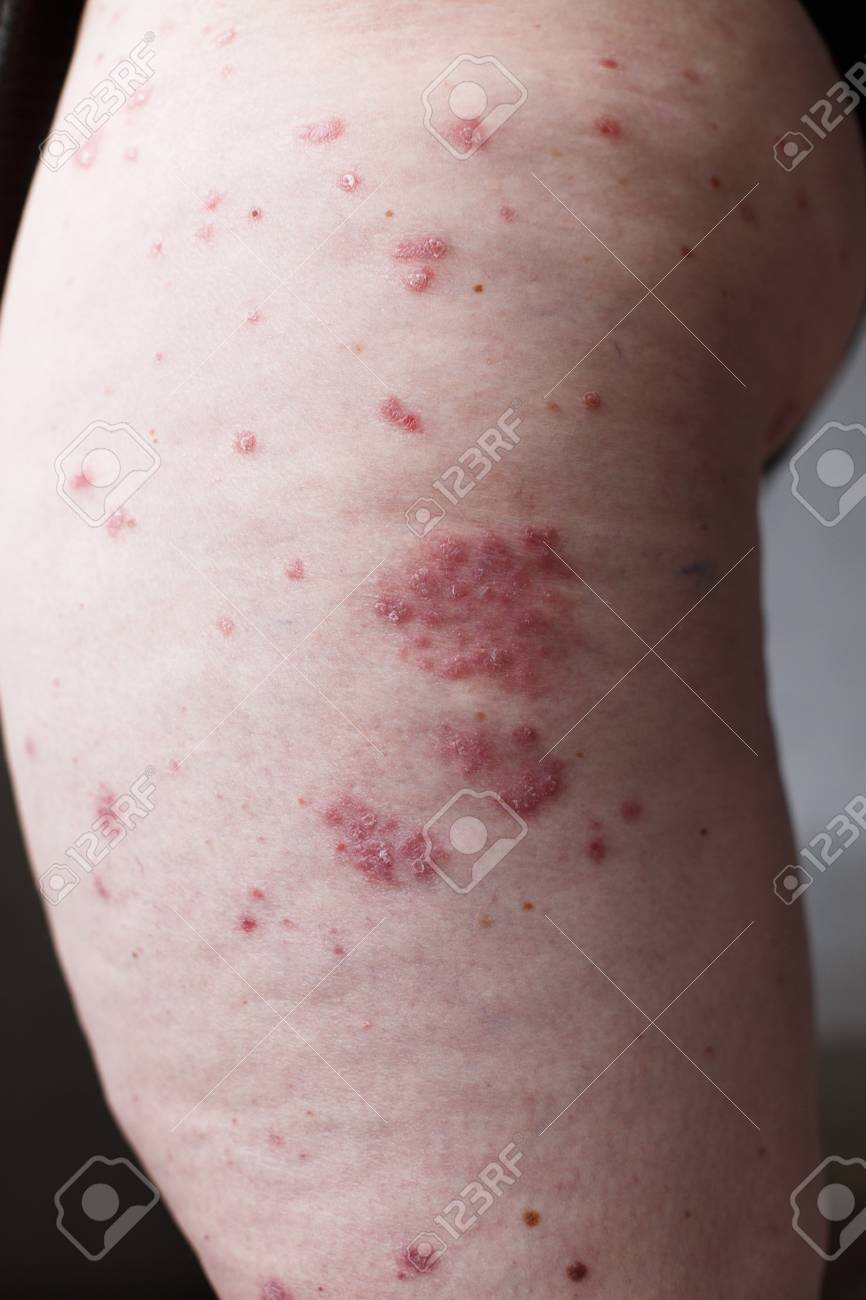Eczema: (127, 91, 744, 1052)
